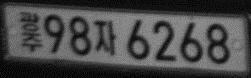2: (152, 20, 177, 61)
6: (126, 19, 150, 60), (179, 22, 203, 63)
8: (68, 15, 92, 57), (206, 22, 230, 64)
9: (43, 13, 66, 53)
광주_V: (19, 10, 43, 52)
자: (93, 19, 117, 55)
